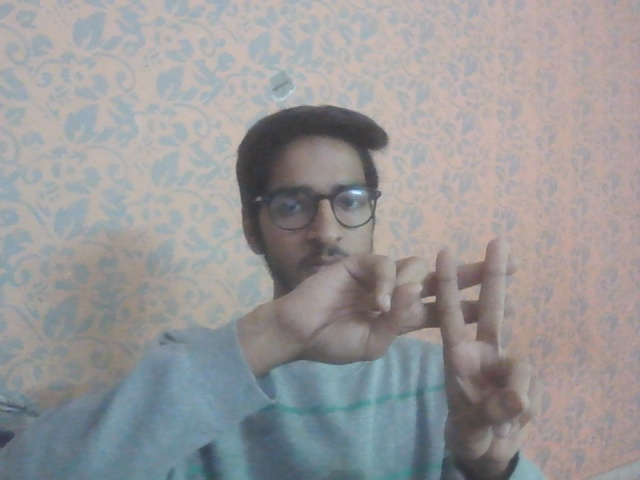HackJMI: (260, 234, 538, 471)
